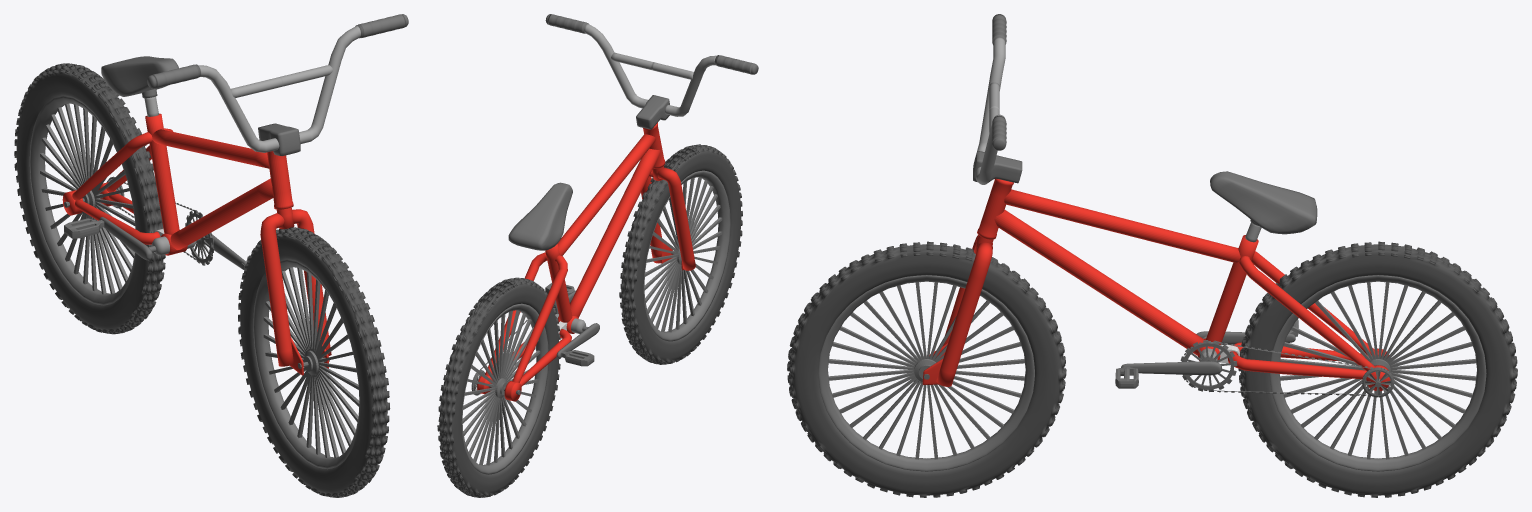
File: BMX3.fbx
3 views of the same model, side by side, from view 1: azimuth 30°, elevation 25°; view 2: azimuth 150°, elevation 25°; view 3: azimuth 270°, elevation 25° (orthographic). The views are drawn at different scales.
Visible parts, largest first — view 1: Circle.001, Circle.004, Circle.002, Cylinder, Circle.005, Cylinder.003, Circle.003, Circle, Cylinder.002, Cube.001, Cylinder.009, Cylinder.005 (+5 smaller); view 2: Circle.001, Circle.004, Cylinder, Circle.005, Circle.002, Circle, Cylinder.003, Cube.001, Circle.003, Cylinder.002, Cylinder.009, Cylinder.005 (+5 smaller); view 3: Circle.001, Circle.004, Cylinder, Circle.002, Circle.005, Circle, Circle.003, Cube.001, Cylinder.002, Cylinder.009, Cylinder.010, Cylinder.003 (+3 smaller).
Boxes of the visible parts, bbox=[...] form: Circle.001: bbox=[238, 227, 390, 497]; Circle.004: bbox=[14, 63, 165, 334]; Circle.002: bbox=[263, 267, 359, 457]; Cylinder: bbox=[145, 113, 293, 255]; Circle.005: bbox=[40, 103, 135, 294]; Cylinder.003: bbox=[198, 26, 360, 152]; Circle.003: bbox=[29, 95, 135, 305]; Circle: bbox=[253, 259, 360, 469]; Cylinder.002: bbox=[260, 209, 331, 375]; Cube.001: bbox=[101, 56, 178, 96]; Cylinder.009: bbox=[72, 128, 173, 200]; Cylinder.005: bbox=[151, 14, 406, 88]; Circle.001: bbox=[619, 144, 742, 364]; Circle.004: bbox=[437, 277, 560, 497]; Cylinder: bbox=[545, 122, 665, 333]; Circle.005: bbox=[462, 310, 540, 465]; Circle.002: bbox=[644, 177, 722, 332]; Circle: bbox=[643, 170, 730, 341]; Cylinder.003: bbox=[584, 24, 716, 116]; Cube.001: bbox=[508, 182, 572, 250]; Circle.003: bbox=[461, 303, 548, 474]; Cylinder.002: bbox=[641, 167, 695, 270]; Cylinder.009: bbox=[485, 252, 567, 382]; Cylinder.005: bbox=[548, 14, 754, 74]; Circle.001: bbox=[787, 241, 1066, 497]; Circle.004: bbox=[1238, 241, 1517, 497]; Cylinder: bbox=[977, 178, 1258, 360]; Circle.002: bbox=[828, 282, 1024, 459]; Circle.005: bbox=[1280, 282, 1476, 459]; Circle: bbox=[818, 275, 1034, 471]; Circle.003: bbox=[1269, 275, 1486, 471]; Cube.001: bbox=[1210, 171, 1317, 234]; Cylinder.002: bbox=[922, 235, 992, 386]; Cylinder.009: bbox=[1239, 251, 1375, 371]; Cylinder.010: bbox=[1227, 342, 1368, 379]; Cylinder.003: bbox=[976, 37, 1005, 184].
Size of the model in its own units: 381 by 591 by 931.
